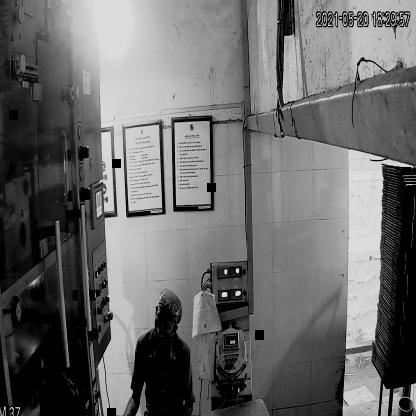no_goggles: (154, 309, 174, 335)
